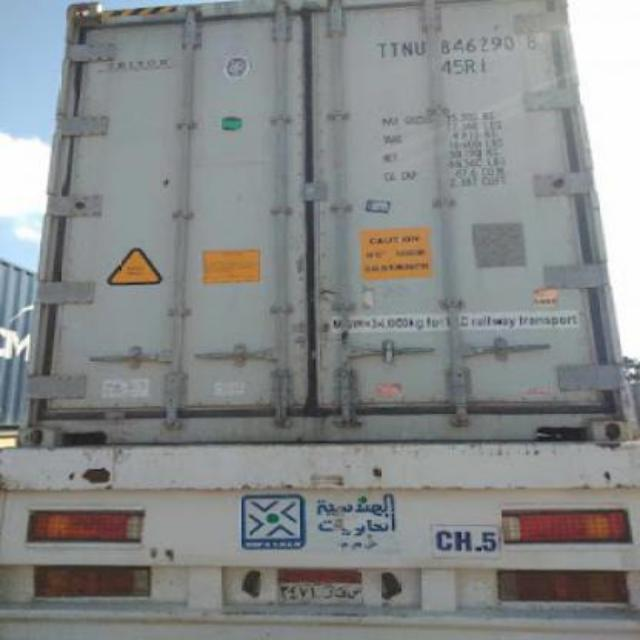0: (502, 28, 516, 58)
2: (476, 34, 492, 56)
4: (452, 37, 466, 57)
6: (462, 34, 476, 54)
8: (431, 34, 452, 56), (524, 33, 540, 53)
9: (488, 34, 502, 54)
N: (402, 37, 414, 63)
T: (364, 37, 388, 61), (386, 39, 402, 63)
U: (412, 40, 428, 61)
